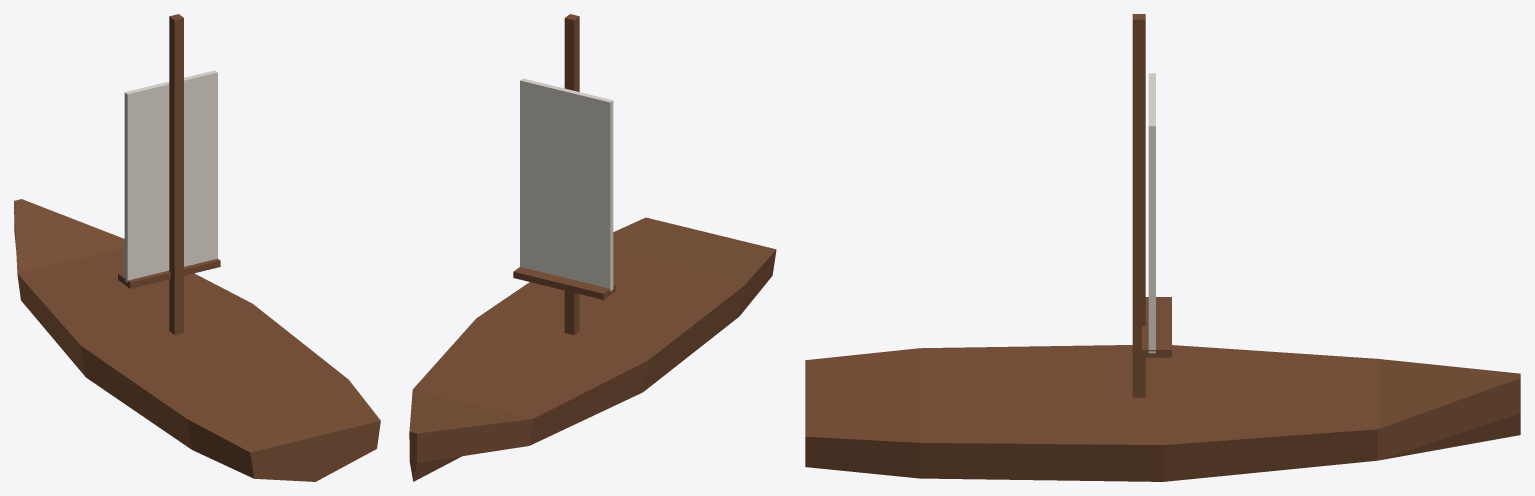
The model's file is SM_Humilde.glb.
The picture shows the model from 3 angles, left to right: view 1: azimuth 30°, elevation 25°; view 2: azimuth 150°, elevation 25°; view 3: azimuth 270°, elevation 25°; orthographic projection. The views are drawn at different scales.
Visible parts, largest first — view 1: SM_Humilde; view 2: SM_Humilde; view 3: SM_Humilde.
Boxes of the visible parts, x1,y1,x2,y2 form: SM_Humilde: (14, 14, 380, 481); SM_Humilde: (409, 14, 776, 481); SM_Humilde: (805, 14, 1520, 481).
Bounding box in the file's own units: 4 × 8.23 × 12.
